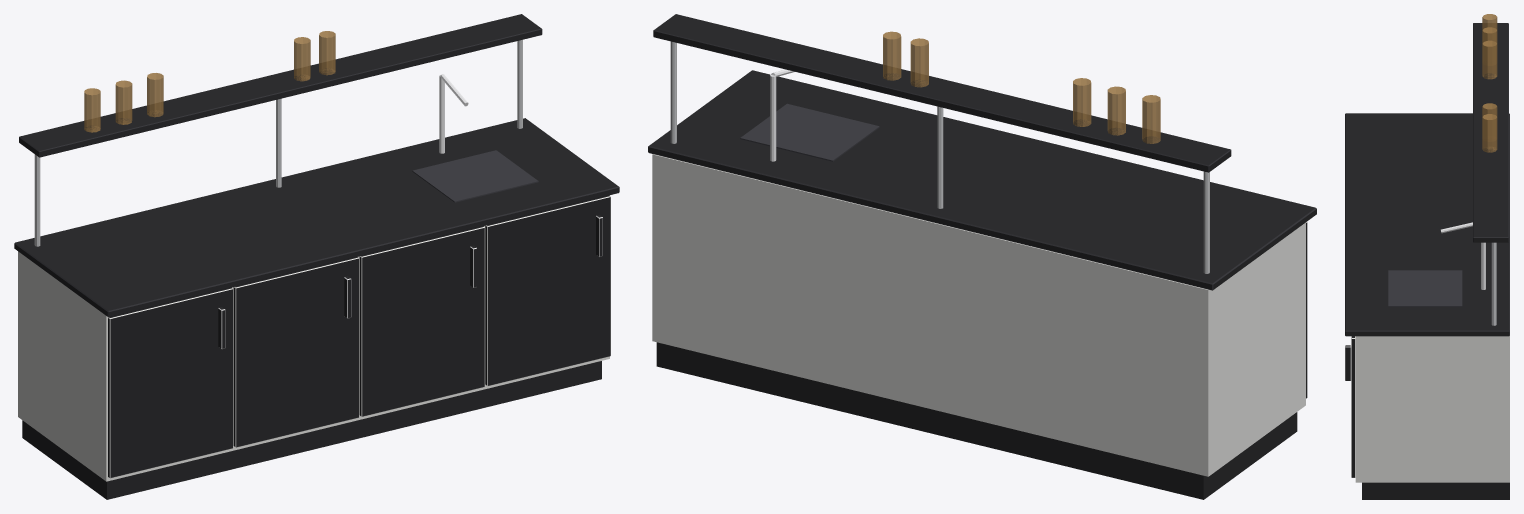
The model's file is lab_bench.glb.
3 renders of one model, left to right at view 1: azimuth 30°, elevation 25°; view 2: azimuth 150°, elevation 25°; view 3: azimuth 270°, elevation 25°, orthographic. The views are drawn at different scales.
Visible parts, largest first — view 1: lab_bench; view 2: lab_bench; view 3: lab_bench.
Part boxes in pixels (x1=…): lab_bench: x1=14, y1=14, x2=619, y2=499; lab_bench: x1=648, y1=14, x2=1316, y2=499; lab_bench: x1=1345, y1=14, x2=1509, y2=499.
Bounding box in the file's own units: 2.44 × 1.55 × 0.78.
